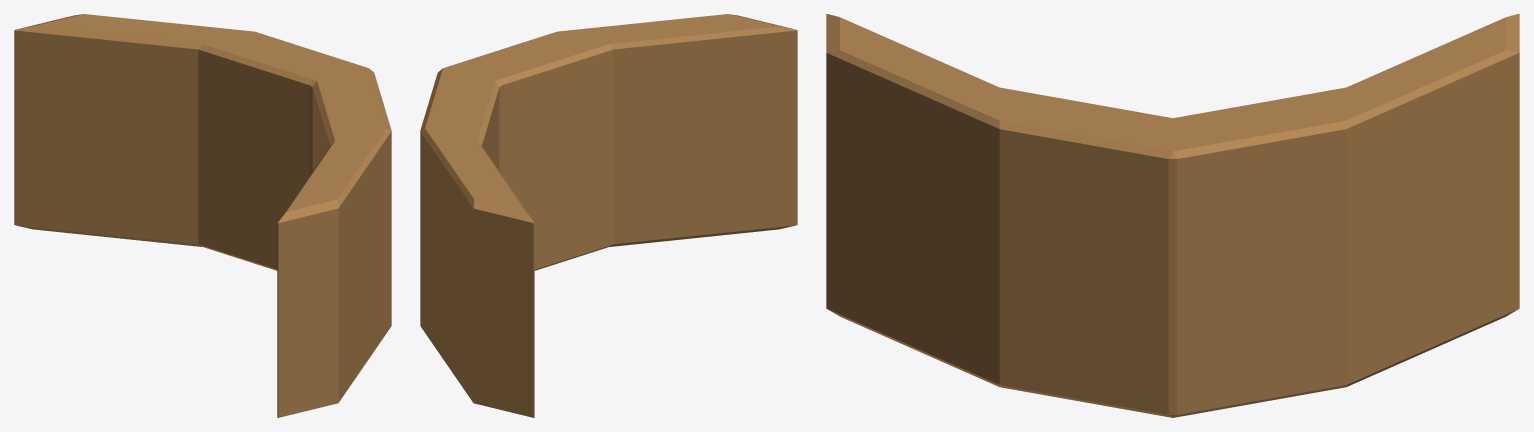
The model's file is reception desk.fbx.
3 views of the same model, side by side, from view 1: azimuth 30°, elevation 25°; view 2: azimuth 150°, elevation 25°; view 3: azimuth 270°, elevation 25° (orthographic). The views are drawn at different scales.
Parts seen in each view (by area): view 1: Cube; view 2: Cube; view 3: Cube.
Boxes of the visible parts, x1,y1,x2,y2 form: Cube: (14, 14, 391, 417); Cube: (420, 14, 797, 417); Cube: (826, 14, 1519, 417).
Size of the model in its own units: 518 by 444 by 1046.
